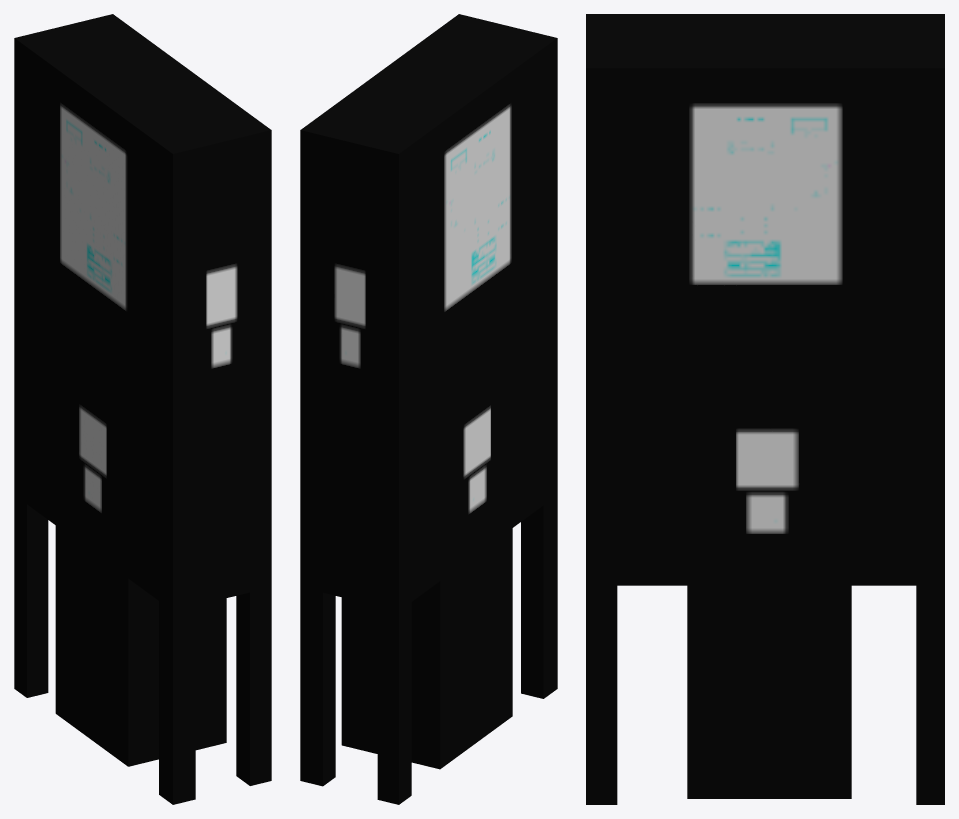
The model's file is prop3.FBX.
3 renders of one model, left to right at view 1: azimuth 30°, elevation 25°; view 2: azimuth 150°, elevation 25°; view 3: azimuth 270°, elevation 25°, orthographic. The views are drawn at different scales.
Parts seen in each view (by area): view 1: Box002; view 2: Box002; view 3: Box002.
Boxes of the visible parts, x1=… form: Box002: x1=14, y1=14, x2=271, y2=804; Box002: x1=300, y1=14, x2=557, y2=804; Box002: x1=586, y1=14, x2=944, y2=804.
Size of the model in its own units: 11 by 69.46 by 30.67.
